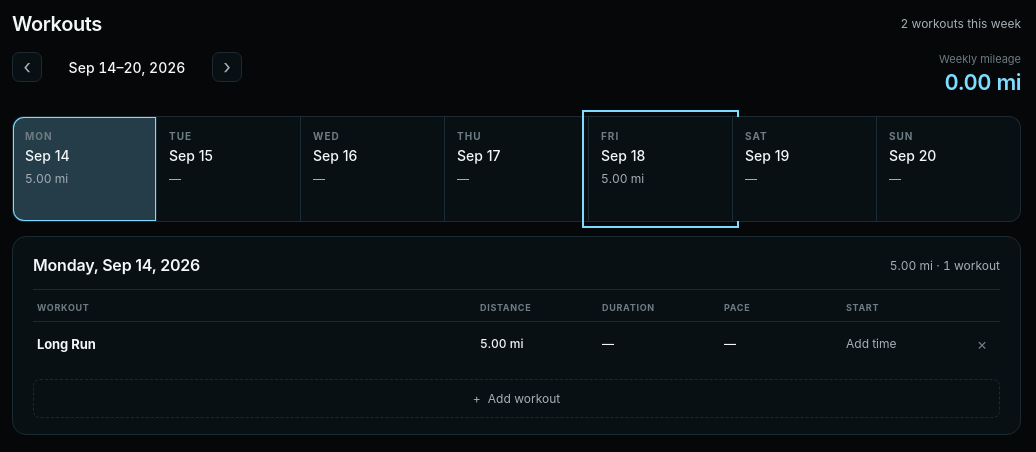
Test: WorkoutList presentation › selects a day without loading new data
This screenshot has width=1036, height=452.
expect the element named "Long Run on 2026-09-14" is shown: met, box [33, 321, 1000, 365]
Click the button with aria-label "Select Friday, Sep 18". click: [660, 169]
box: [589, 117, 732, 221]
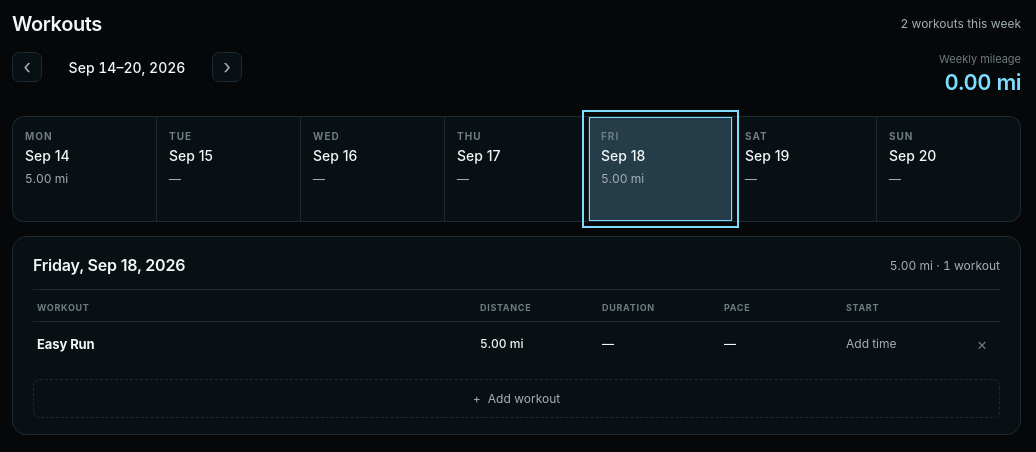
expect the heading "Friday, Sep 18, 2026" is shown: met, box [33, 255, 185, 275]
expect the element named "Easy Run on 2026-09-18" is shown: met, box [33, 321, 1000, 365]
